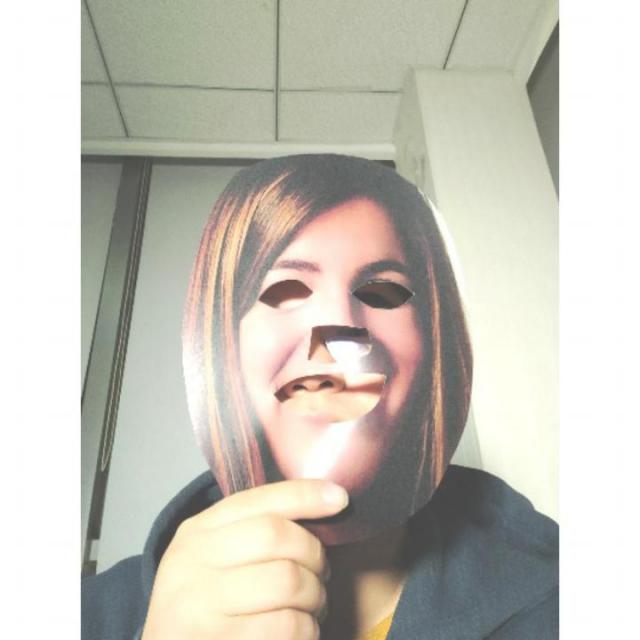mask: (178, 148, 477, 540)
